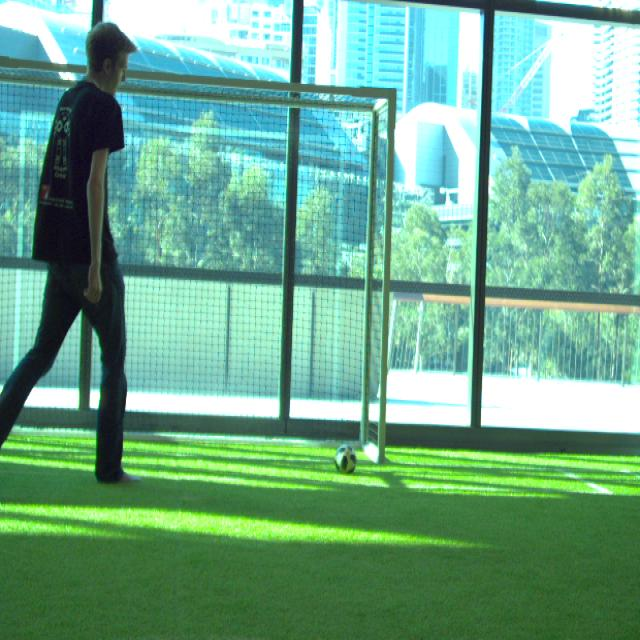ball: (335, 444, 357, 475)
goalpost: (375, 89, 395, 463)
